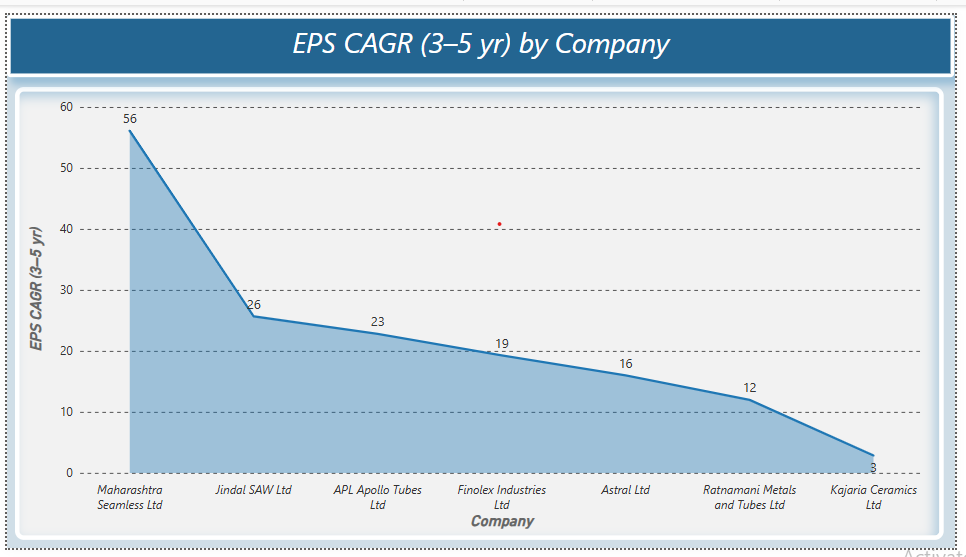

The dashboard page shown, as its layout file describes it:
{"tool":"powerbi","page":{"name":"EPS CAGR (3-5 yr)","canvas":[1280,720],"ordinal":2},"visuals":[{"type":"areaChart","fields":{"Category":["Sheet2.Company"],"Y":["Sum(Sheet2.EPS CAGR (3–5 yr))"]},"box":[9.6,97.7,1255.2,612.5],"z":0},{"type":"textbox","box":[0,0,1280,84],"z":1000}]}

Visuals, with their boxes in screenshot pixels (x1, y1, x2, y2), scaled from the page's 1280x720 canvas onto the 966x557 screenshot:
areaChart - Sheet2.Company x Sum(Sheet2.EPS CAGR (3–5 yr)): 7,76,955,549
textbox: 0,0,965,65
